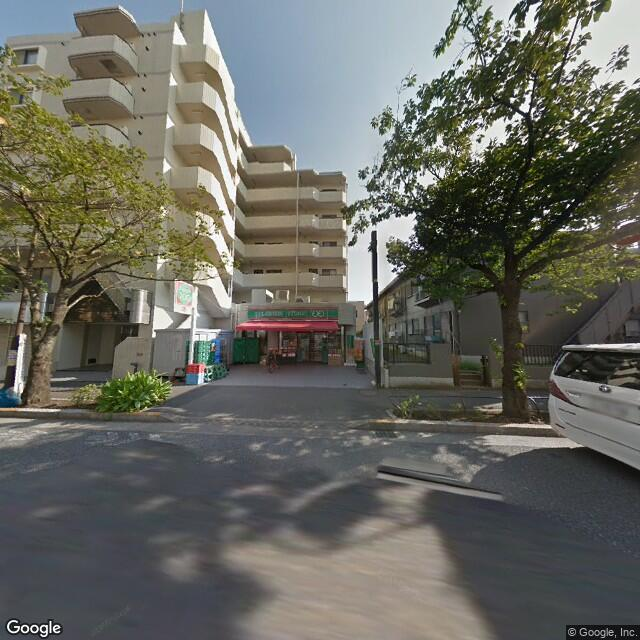lawson: (245, 301, 345, 326)
